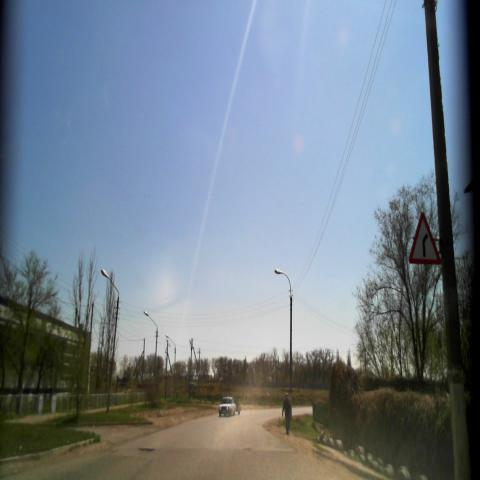1_11: (406, 211, 441, 266)
